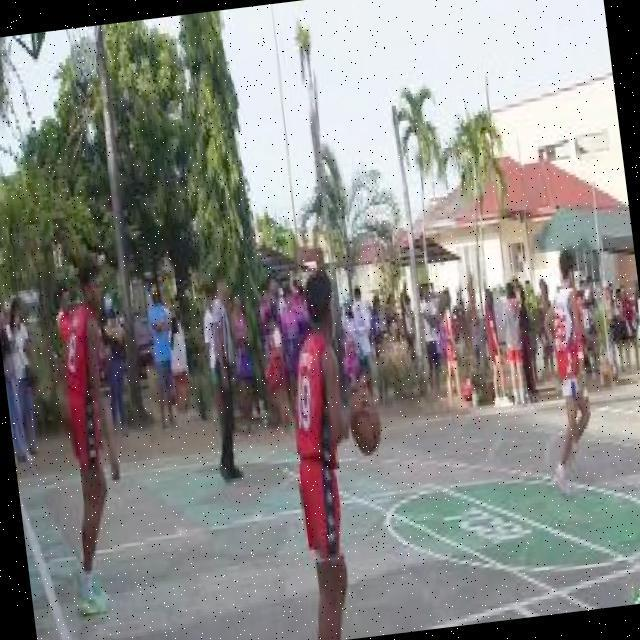ball: (346, 388, 386, 464)
